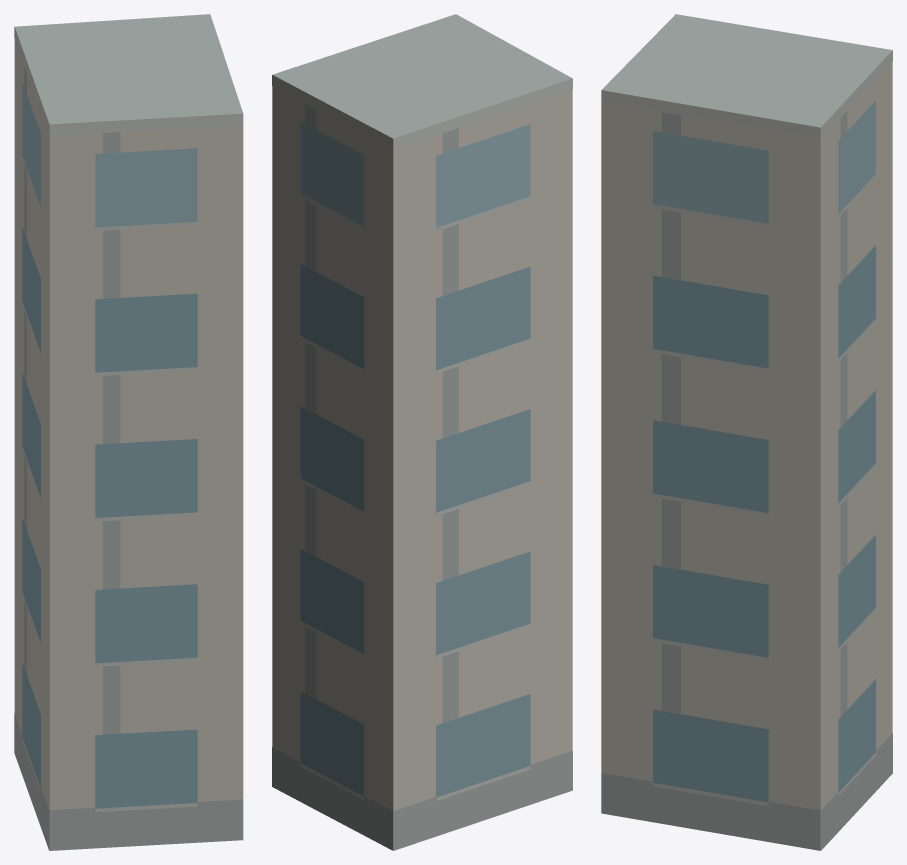
The model's file is survey-upis-32497672.glb.
3 views of the same model, side by side, from view 1: azimuth 30°, elevation 25°; view 2: azimuth 150°, elevation 25°; view 3: azimuth 270°, elevation 25° (orthographic). The views are drawn at different scales.
Visible parts, largest first — view 1: survey-upis-32497672.tmp; view 2: survey-upis-32497672.tmp; view 3: survey-upis-32497672.tmp.
Part boxes in pixels (left/top/right/bottom): survey-upis-32497672.tmp: left=14, top=14, right=243, bottom=850; survey-upis-32497672.tmp: left=272, top=14, right=572, bottom=850; survey-upis-32497672.tmp: left=601, top=14, right=892, bottom=850.
Bounding box in the file's own units: 5.14 × 15.25 × 5.58.
